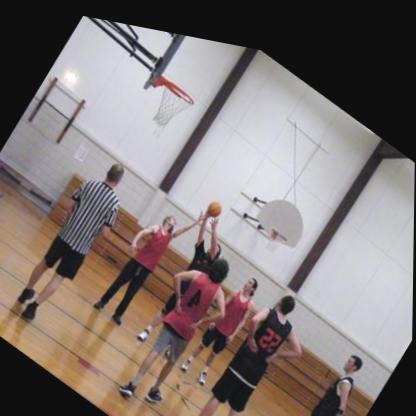basketball: (205, 188, 226, 214)
rim: (162, 70, 196, 101)
